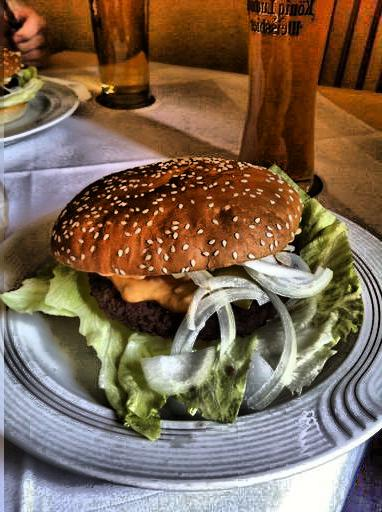burger: (55, 151, 330, 418)
